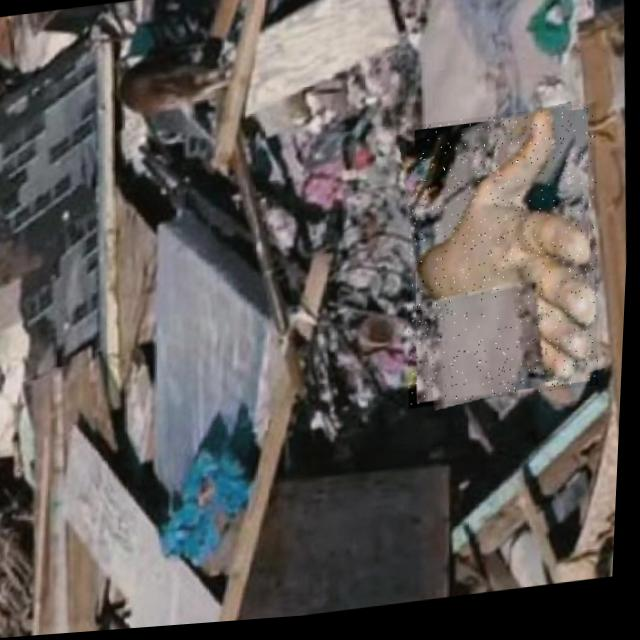Person in Rubble: (398, 110, 612, 415)
